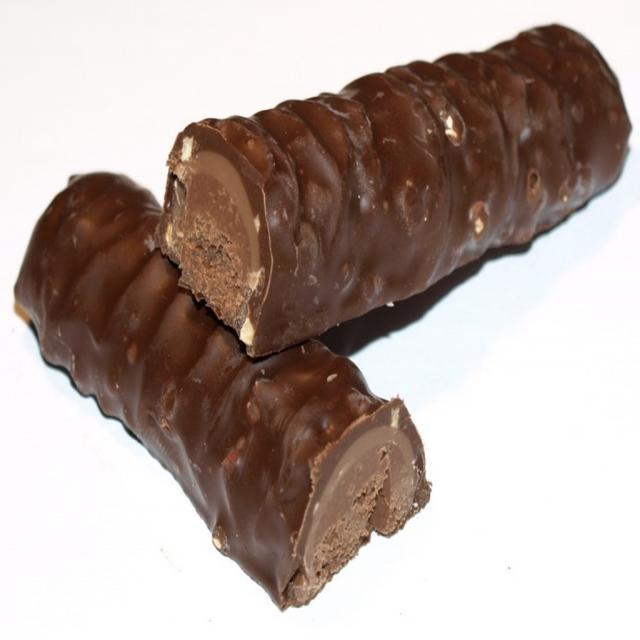Chocolate bar packaged: (10, 168, 434, 618), (150, 20, 635, 360)
